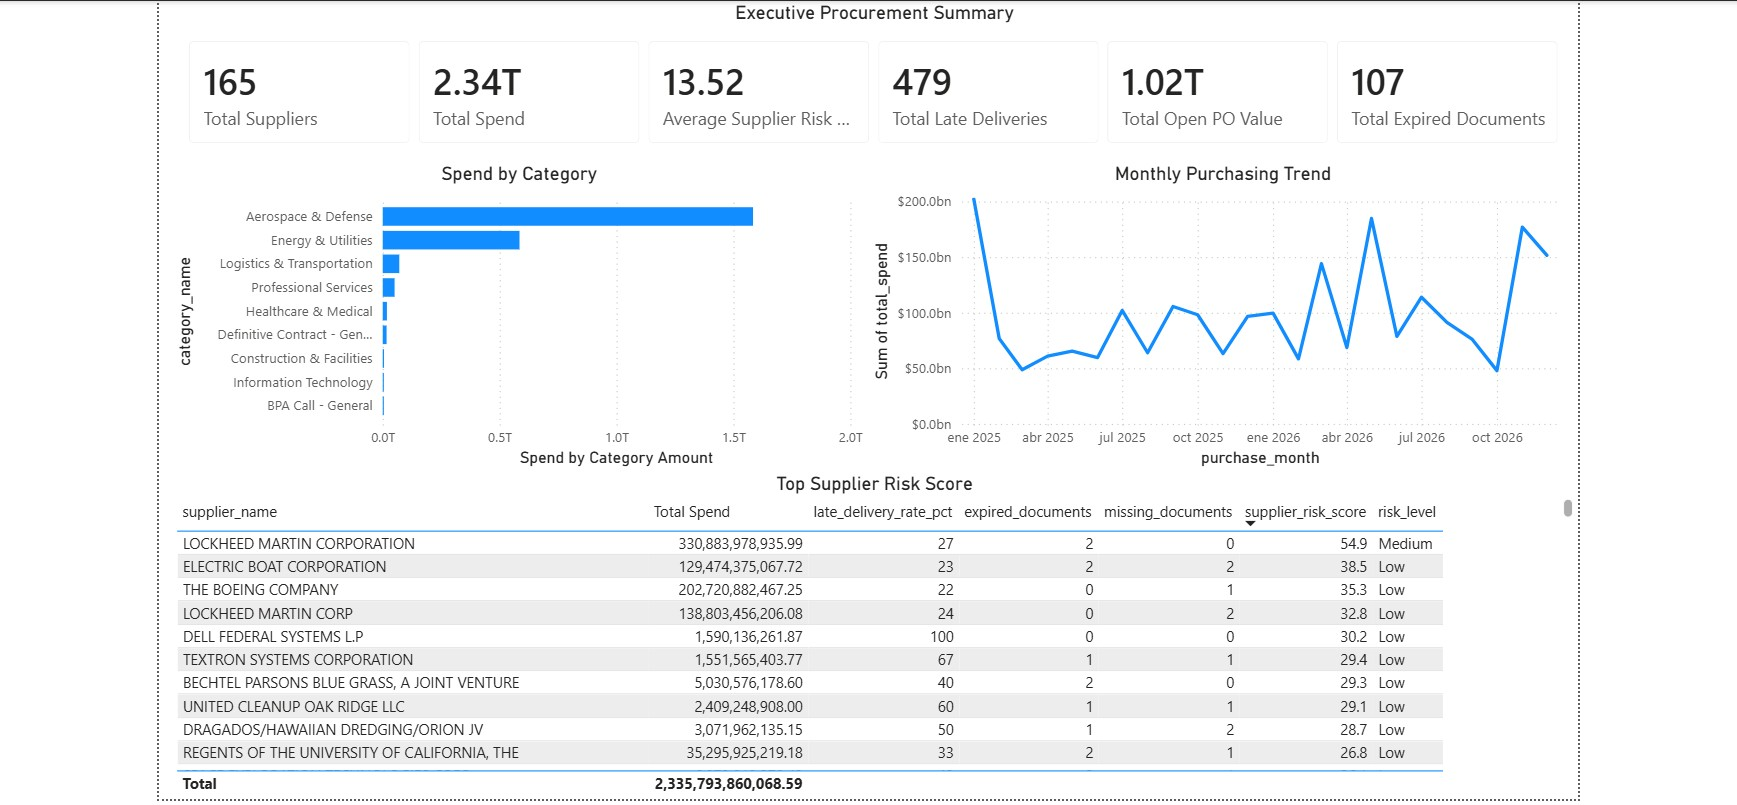

What the dashboard file says about the page in this screenshot:
{"tool":"powerbi","page":{"name":"Executive Summary","canvas":[1280,720],"ordinal":0},"visuals":[{"type":"cardVisual","title":"Executive Procurement Summary","fields":{"Data":["supplier_risk_score.Total Suppliers","spend_by_category.Total Spend 1","supplier_risk_score.Average Supplier Risk Score","late_delivery_performance.Total Late Deliveries","open_po_aging.Total Open PO Value","supplier_compliance_status.Total Expired Documents"]},"box":[10,0,1270.1,145.5],"z":0},{"type":"clusteredBarChart","title":"Spend by Category","fields":{"Category":["spend_by_category.category_name"],"Y":["spend_by_category.Spend by Category Amount"]},"box":[10,145.5,629.4,279.9],"z":1000},{"type":"lineChart","title":"Monthly Purchasing Trend","fields":{"Y":["Sum(monthly_purchasing_trend.total_spend)"],"Category":["monthly_purchasing_trend.purchase_month"]},"box":[639.4,145.5,640.6,279.9],"z":2000},{"type":"tableEx","title":"Top Supplier Risk Score","fields":{"Values":["supplier_risk_score.supplier_name","supplier_risk_score.Total Spend","supplier_risk_score.late_delivery_rate_pct","supplier_risk_score.expired_documents","supplier_risk_score.missing_documents","supplier_risk_score.supplier_risk_score","supplier_risk_score.risk_level"]},"box":[10,425.4,1270.1,294.8],"z":3000}]}

Visuals, with their boxes on the page's 1280x720 design canvas (x1, y1, x2, y2). These are canvas units, not pixel positions in the 1737x805 screenshot, which may show the page scaled, cropped or inside an application window:
"Executive Procurement Summary" cardVisual: Rect(10, 0, 1280, 146)
"Spend by Category" clusteredBarChart: Rect(10, 146, 639, 425)
"Monthly Purchasing Trend" lineChart: Rect(639, 146, 1280, 425)
"Top Supplier Risk Score" tableEx: Rect(10, 425, 1280, 720)
